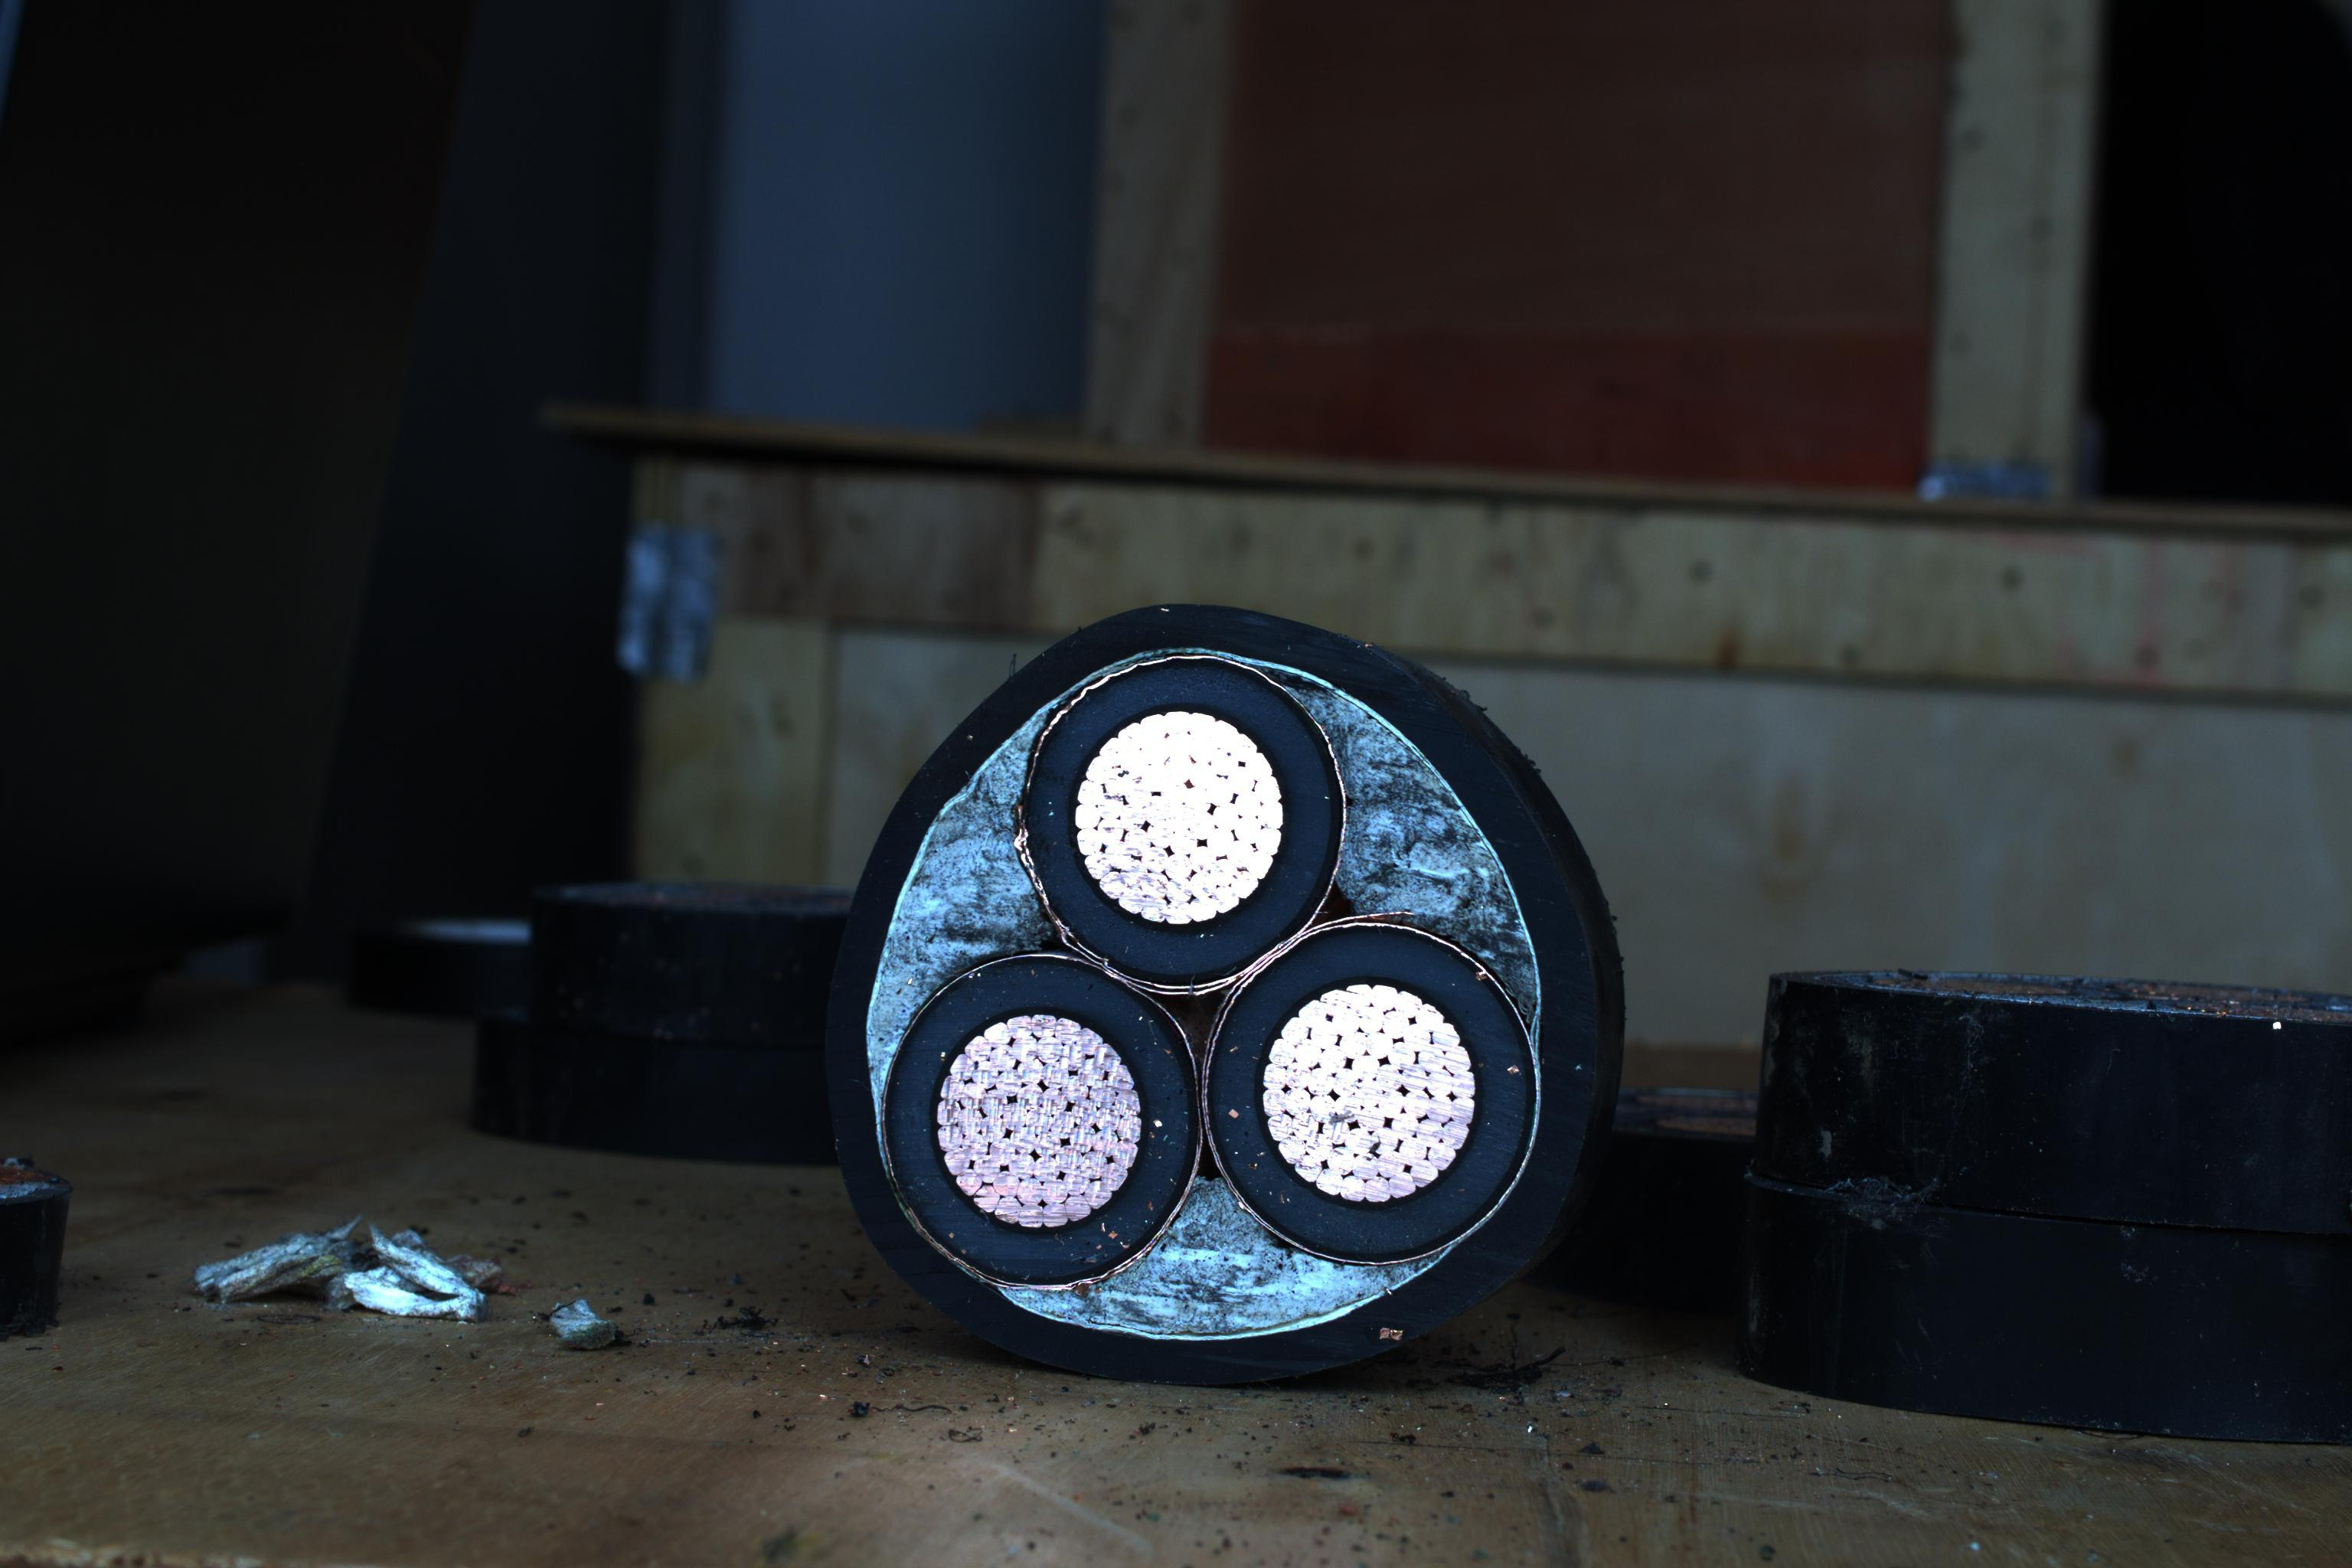ZA_YJV_8.7_10kV_3x400: (835, 590, 1578, 1361)
